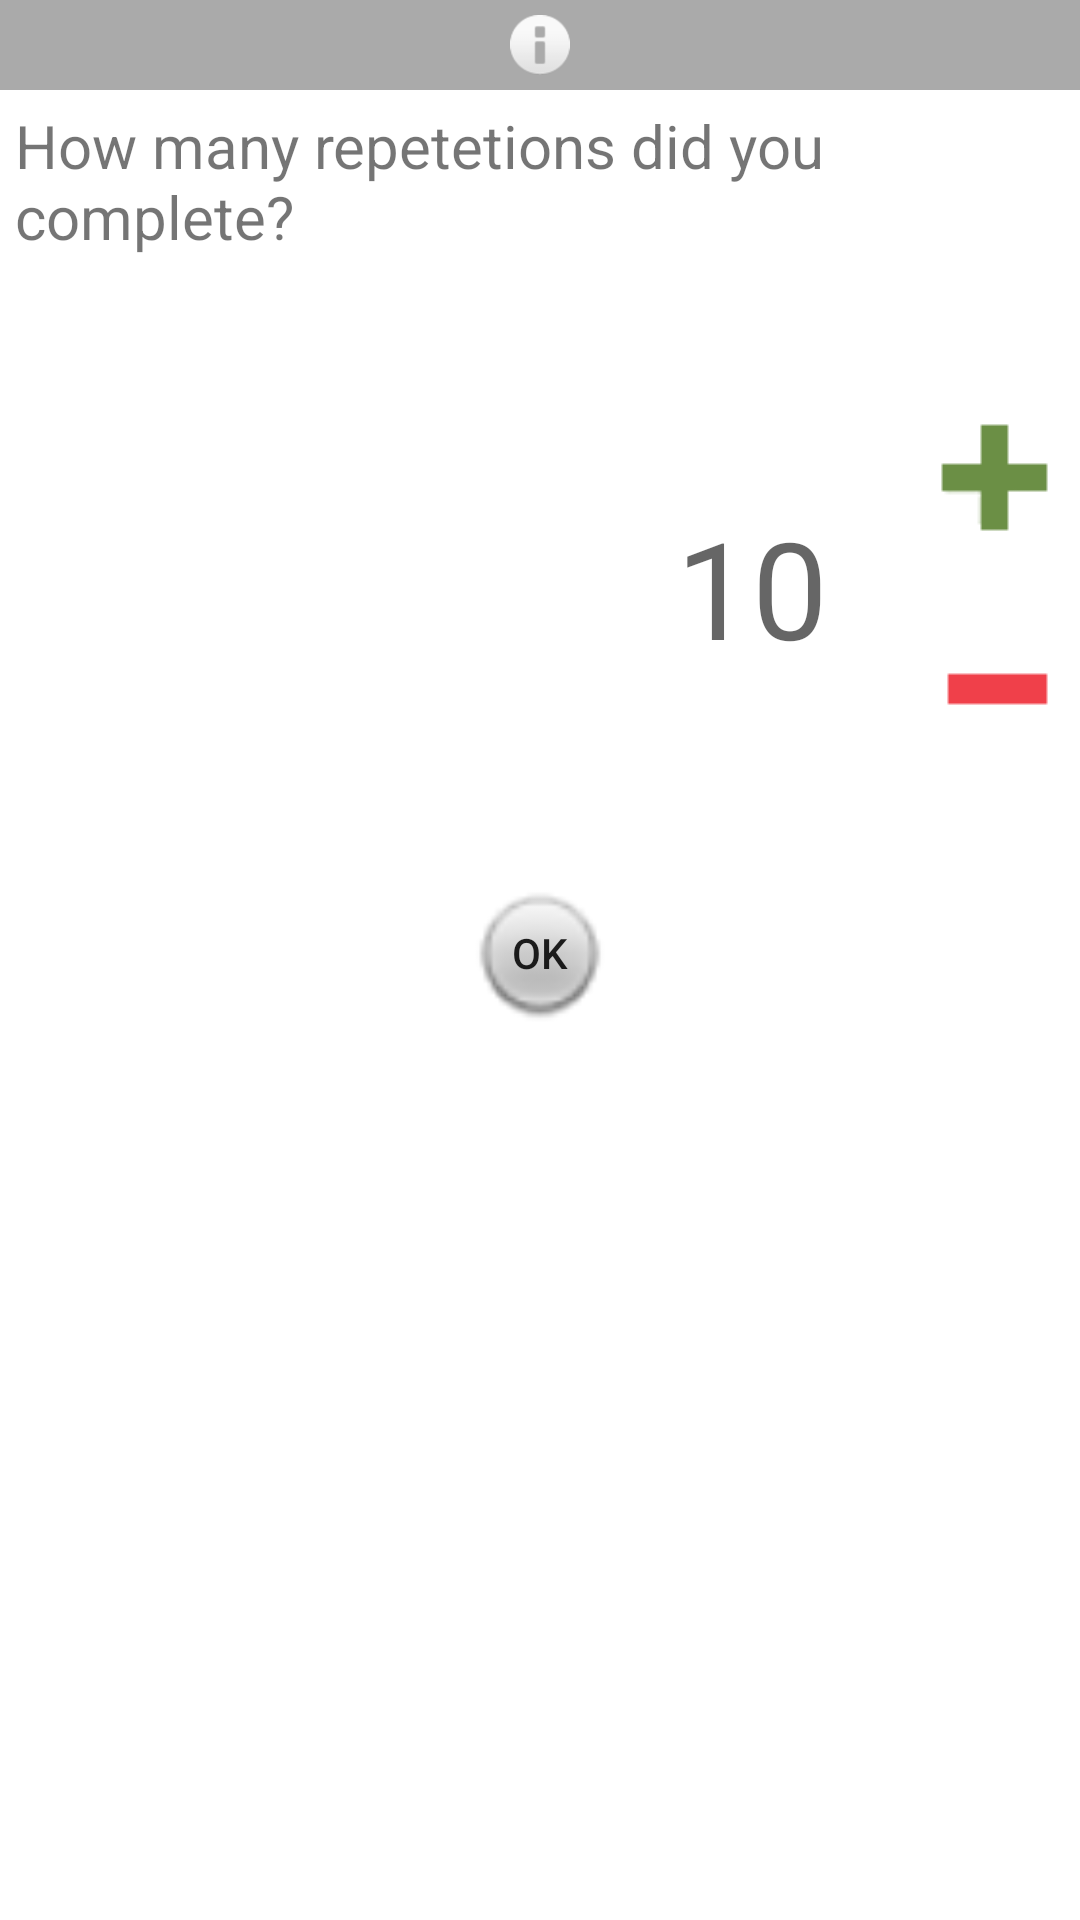

Icon bounding boxes for this 1080px x 1920px phone screenshot, format (x1, y1, x2, y2):
minus: (947, 673, 1048, 705)
plus: (941, 424, 1048, 531)
